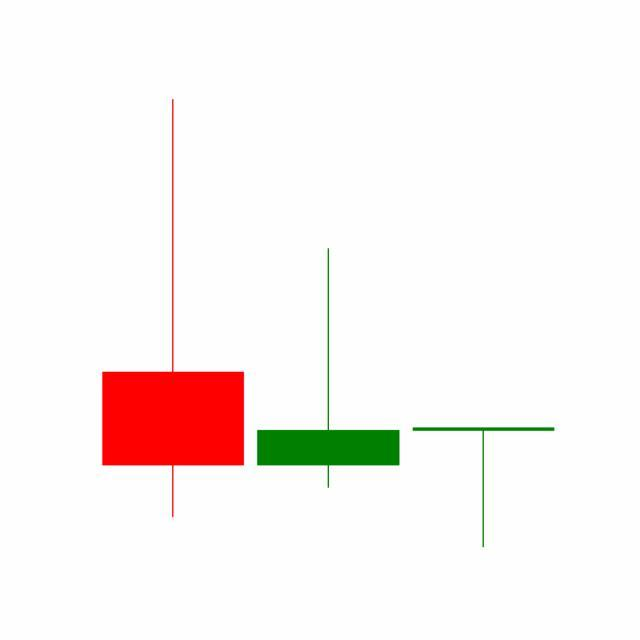Dragonfly Doji: (406, 426, 562, 549)
